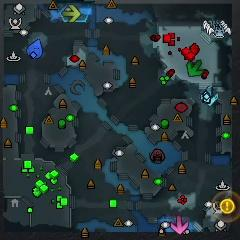p1: (27, 38, 43, 60)
x1: (170, 213, 189, 234)
x2: (63, 4, 80, 22)
x3: (200, 86, 219, 107)
x4: (186, 60, 203, 77)
